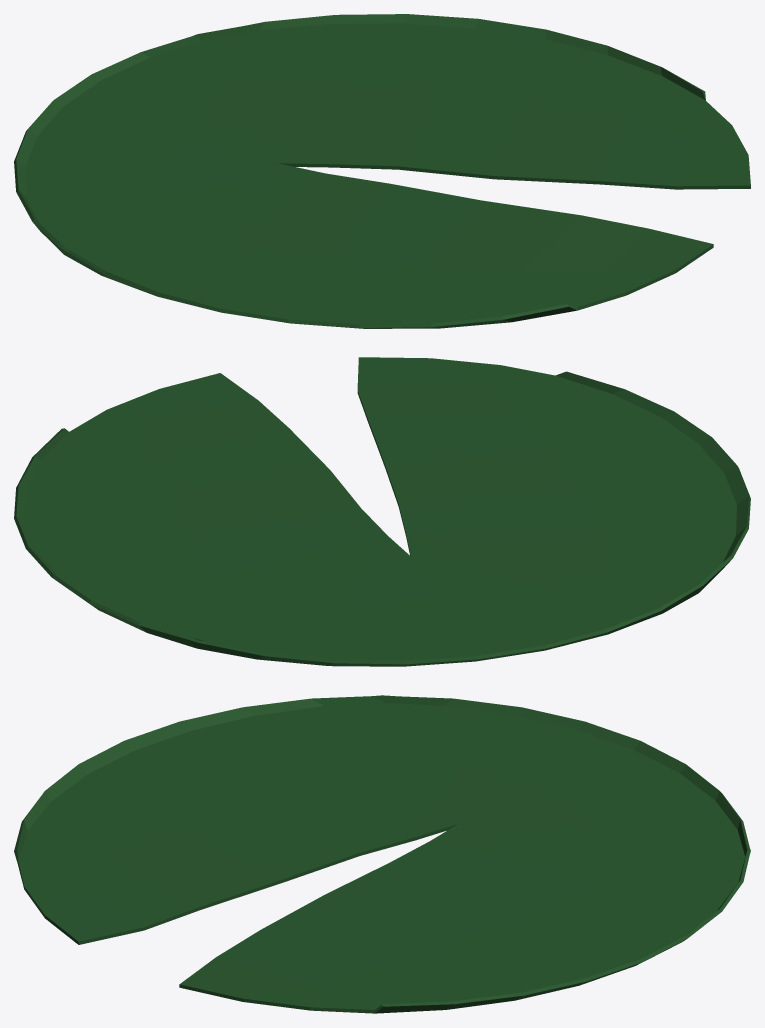
File: nenufar.fbx
3 views of the same model, one above another, from view 1: azimuth 30°, elevation 25°; view 2: azimuth 150°, elevation 25°; view 3: azimuth 270°, elevation 25° (orthographic).
Visible parts, largest first — view 1: Círculo; view 2: Círculo; view 3: Círculo.
Part boxes in pixels (<box>): Círculo: <box>14,14,750,328</box>; Círculo: <box>14,357,750,666</box>; Círculo: <box>14,695,750,1013</box>.
Size of the model in its own units: 53.01 by 0.8195 by 53.
